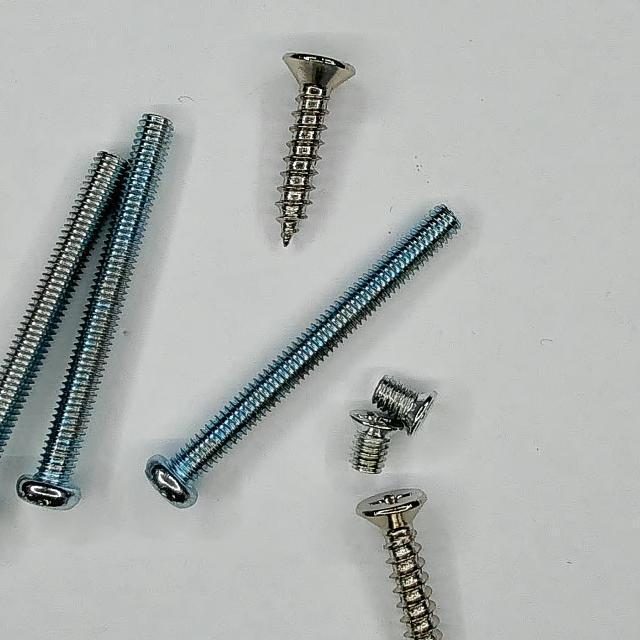Screw: (145, 205, 461, 508), (17, 113, 174, 508), (1, 152, 125, 454), (277, 52, 356, 246), (357, 490, 443, 640), (351, 376, 436, 474)
